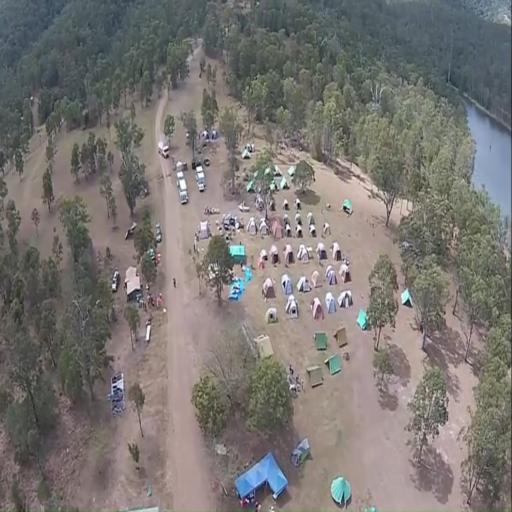Tent: (308, 297, 325, 321), (284, 294, 299, 320), (262, 276, 276, 301), (337, 290, 355, 309), (324, 291, 337, 315), (324, 264, 338, 286), (338, 262, 352, 284), (295, 276, 312, 294), (280, 275, 294, 295), (311, 270, 323, 289), (264, 308, 278, 324)
